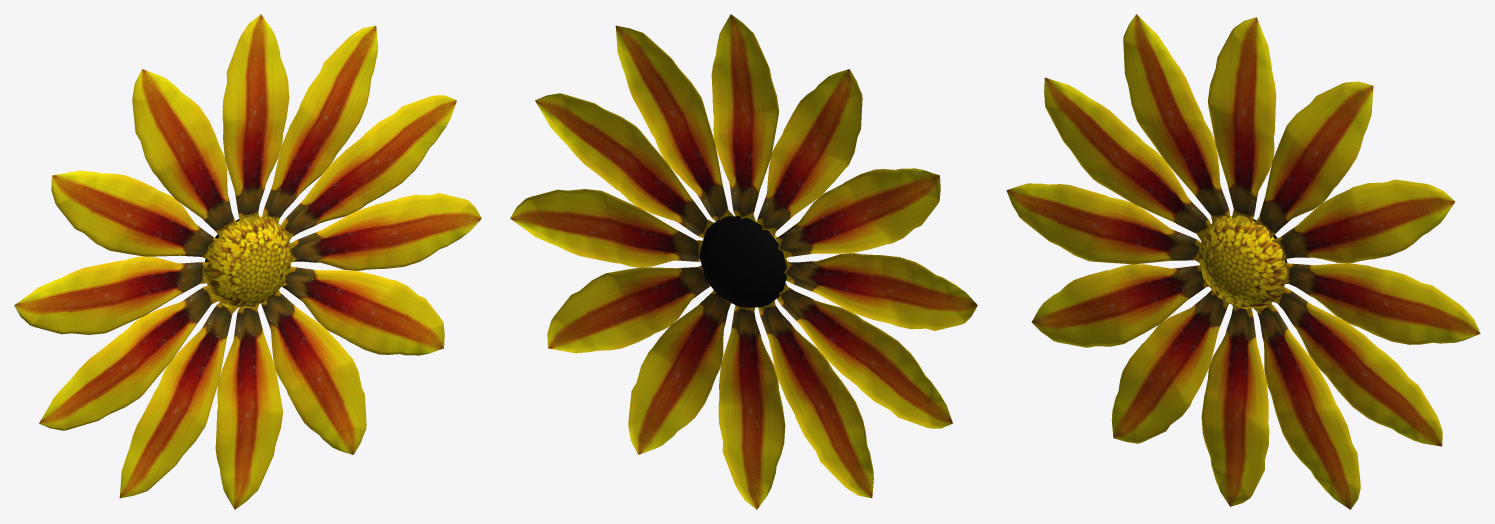
File: flower_.obj
3 renders of one model, left to right at view 1: azimuth 30°, elevation 25°; view 2: azimuth 150°, elevation 25°; view 3: azimuth 330°, elevation 25°, orthographic.
Visible parts, largest first — view 1: Duplicate11, Triangles, Duplicate03, Duplicate01, Duplicate04, Duplicate02, Duplicate10, Duplicate05, Duplicate06, Duplicate09, Duplicate08, Duplicate07 (+1 smaller); view 2: Triangles, Duplicate03, Duplicate05, Duplicate02, Duplicate04, Duplicate11, Duplicate01, Duplicate10, Duplicate06, Duplicate09, Duplicate07, Duplicate08 (+1 smaller); view 3: Duplicate07, Duplicate09, Duplicate08, Triangles, Duplicate01, Duplicate02, Duplicate06, Duplicate10, Duplicate03, Duplicate11, Duplicate04, Duplicate05 (+1 smaller).
Boxes of the visible parts, box(x1,y1,x2,y2) form: Duplicate11: box(261, 25, 377, 225); Triangles: box(222, 14, 289, 223); Duplicate03: box(14, 256, 209, 334); Duplicate01: box(132, 69, 238, 238); Duplicate04: box(39, 285, 219, 430); Duplicate02: box(51, 170, 219, 260); Duplicate10: box(280, 95, 456, 241); Duplicate05: box(119, 301, 237, 498); Duplicate06: box(215, 304, 283, 509); Duplicate09: box(290, 193, 481, 270); Duplicate08: box(281, 266, 444, 355); Duplicate07: box(261, 290, 366, 454); Triangles: box(711, 14, 779, 220); Duplicate03: box(784, 253, 977, 330); Duplicate05: box(758, 300, 873, 498); Duplicate02: box(775, 168, 940, 257); Duplicate04: box(777, 283, 952, 428); Duplicate11: box(615, 25, 733, 221); Duplicate01: box(757, 69, 862, 235); Duplicate10: box(535, 93, 714, 238); Duplicate06: box(718, 305, 785, 509); Duplicate09: box(510, 189, 702, 267); Duplicate07: box(628, 290, 731, 454); Duplicate08: box(547, 265, 710, 353); Duplicate07: box(1253, 302, 1360, 509); Duplicate09: box(1282, 263, 1480, 344); Duplicate08: box(1272, 286, 1442, 446); Triangles: box(1207, 17, 1276, 223); Duplicate01: box(1123, 14, 1229, 224); Duplicate02: box(1044, 77, 1211, 240); Duplicate06: box(1201, 305, 1269, 506); Duplicate10: box(1272, 179, 1455, 262); Duplicate03: box(1006, 183, 1200, 264); Duplicate11: box(1253, 81, 1373, 238); Duplicate04: box(1031, 264, 1208, 347); Duplicate05: box(1111, 290, 1229, 443).
Bounding box in the file's own units: 458 × 458 × 43.
Materials: 1 (1 with a texture image).
